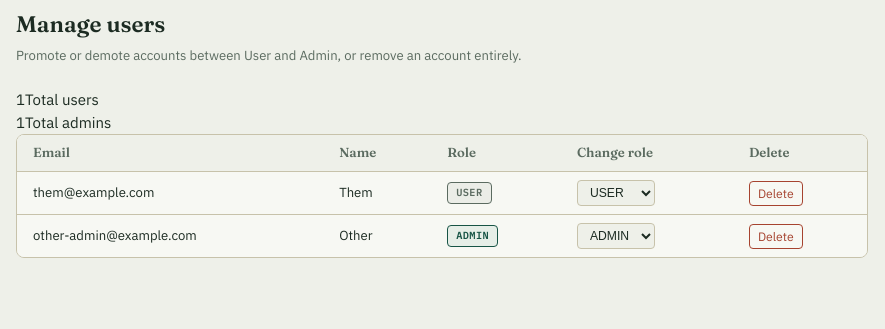
AdminUsersComponent › shows an error message when the delete fails
The image size is (885, 329).
What coordinates should you click on to do the following:
click the button "Delete" in the row of "them@example.com"
I would click on:
 (776, 193)
Its box is [749,181,803,206].
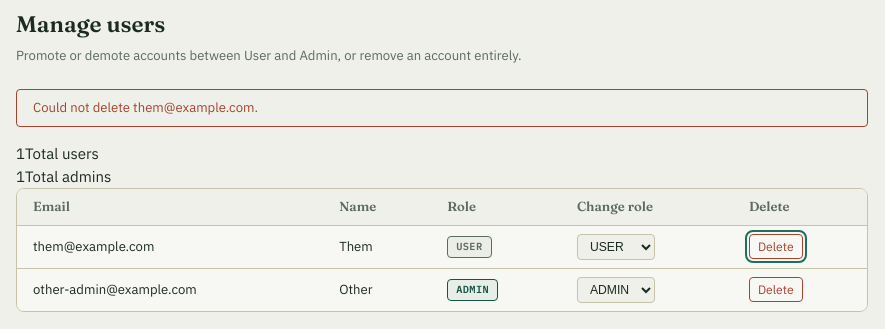
Check: the message shows "Could not delete", box [33,99,258,116]
